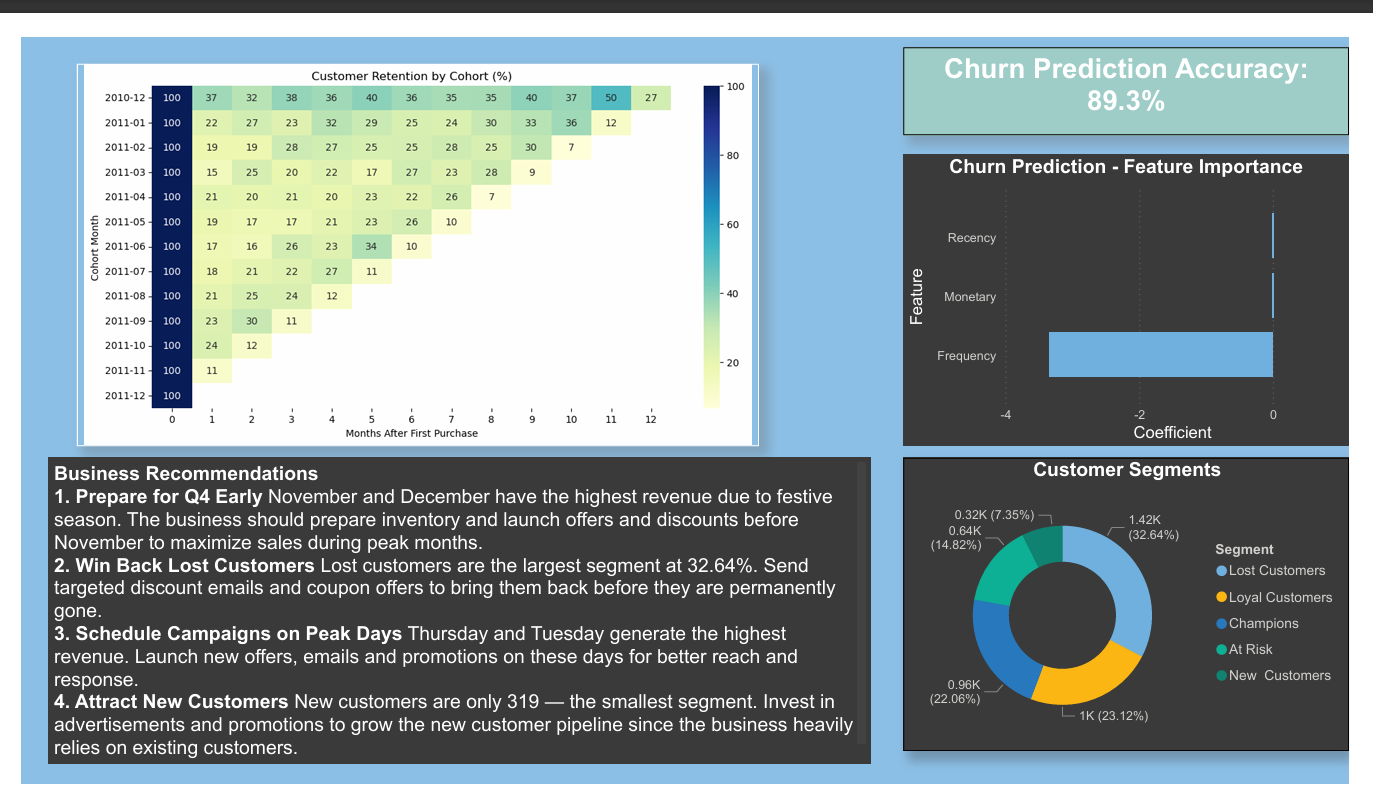

What the dashboard file says about the page in this screenshot:
{"tool":"powerbi","page":{"name":"Advanced Analysis","canvas":[1280,720],"ordinal":1},"visuals":[{"type":"donutChart","title":"Customer Segments","fields":{"Category":["rfm_segments.Segment"],"Y":["CountNonNull(rfm_segments.Segment)"]},"box":[850.3,404.9,429.5,283.4],"z":0},{"type":"image","box":[52.5,25,658.8,368.8],"z":1000},{"type":"textbox","box":[850.3,8.6,429.5,85.9],"z":2000},{"type":"clusteredBarChart","title":"Churn Prediction - Feature Importance","fields":{"Category":["feature_importance.Feature"],"Y":["Sum(feature_importance.Coefficient)"]},"box":[850.3,112.9,429.5,281],"z":3000},{"type":"textbox","box":[26.2,405,792.5,296.2],"z":4000}]}

Visuals, with their boxes on the page's 1280x720 design canvas (x1, y1, x2, y2). These are canvas units, not pixel positions in the 1373x810 screenshot, which may show the page scaled, cropped or inside an application window:
"Customer Segments" donutChart: select_region(850, 405, 1280, 688)
image: select_region(52, 25, 711, 394)
textbox: select_region(850, 9, 1280, 94)
"Churn Prediction - Feature Importance" clusteredBarChart: select_region(850, 113, 1280, 394)
textbox: select_region(26, 405, 819, 701)
